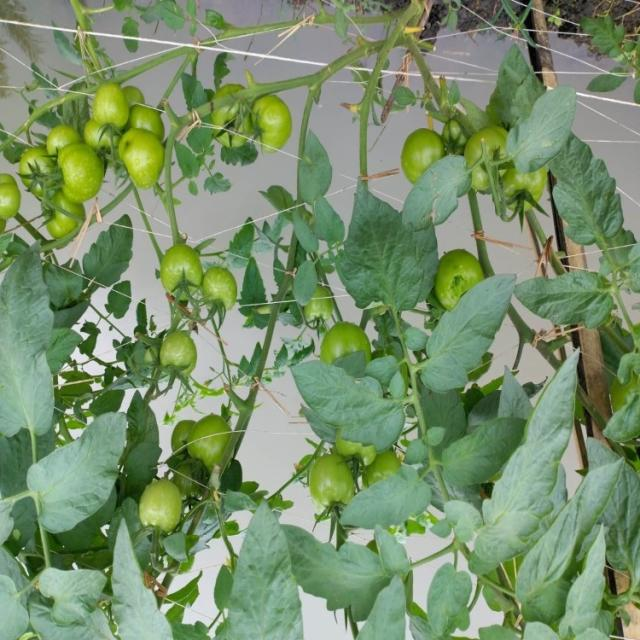tomato: (291, 439, 368, 525), (460, 121, 525, 212), (139, 459, 204, 543), (201, 99, 275, 171), (239, 77, 308, 150), (337, 425, 399, 504), (431, 239, 493, 314), (157, 229, 214, 307), (78, 108, 138, 179), (37, 176, 100, 242), (317, 314, 374, 383), (498, 162, 560, 225), (114, 121, 169, 192), (148, 318, 205, 382), (51, 147, 107, 207), (192, 256, 244, 318), (5, 135, 61, 189), (189, 405, 232, 474), (86, 71, 135, 125), (399, 123, 440, 179), (1, 159, 32, 229), (127, 96, 173, 142), (364, 444, 396, 487), (440, 109, 477, 141), (166, 413, 196, 452), (37, 128, 69, 155)
